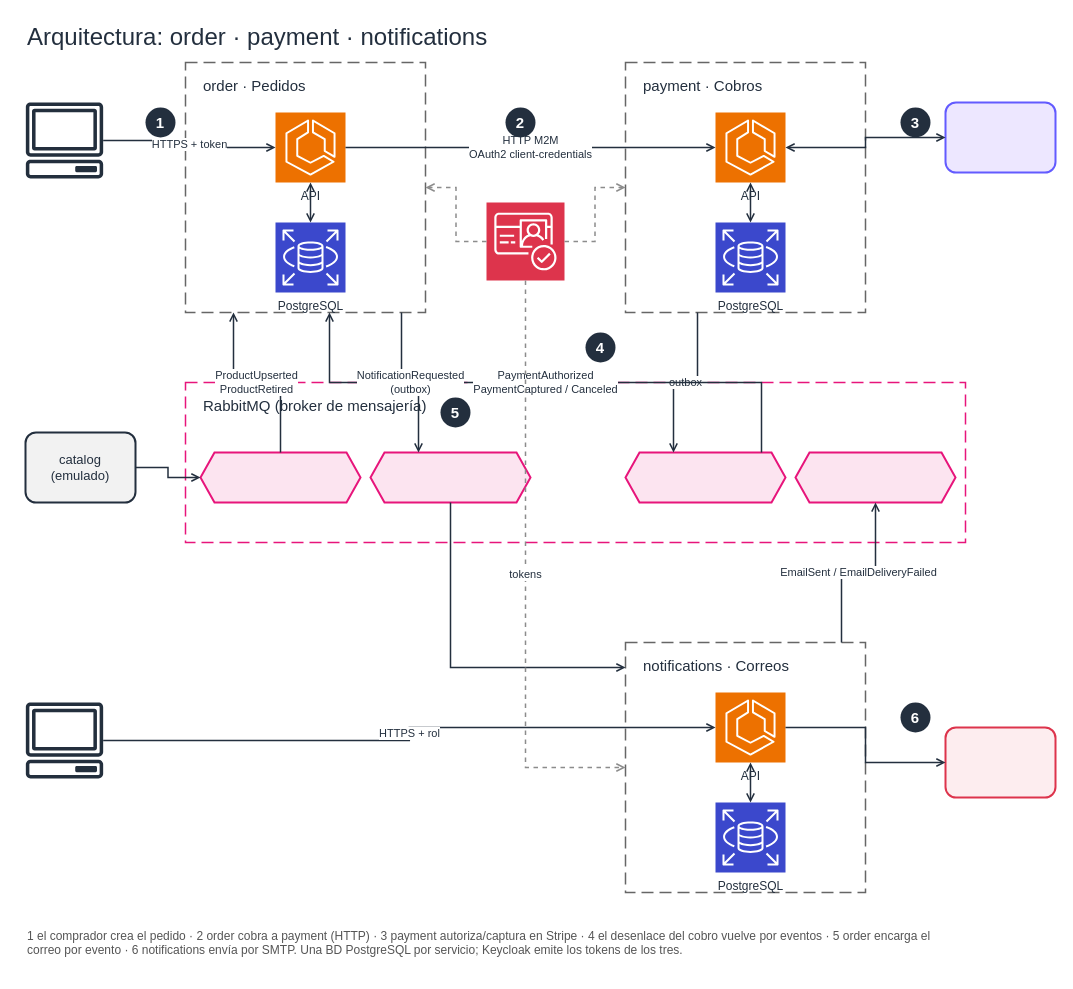
Some shapes in this 1073 by 989 pixel diagram are drawn without their labels. The centre of each missing label's shape, as x and y in pixels:
Back-office (SPA): the point at 64,740
catalogEvents: the point at 280,477
Comprador (SPA): the point at 64,140
Keycloak (IdP OIDC): the point at 525,241
notificationEvents: the point at 875,477
notificationRequests: the point at 450,477
paymentEvents: the point at 705,477
Relay SMTP: the point at 1000,762
Stripe (pasarela): the point at 1000,137
